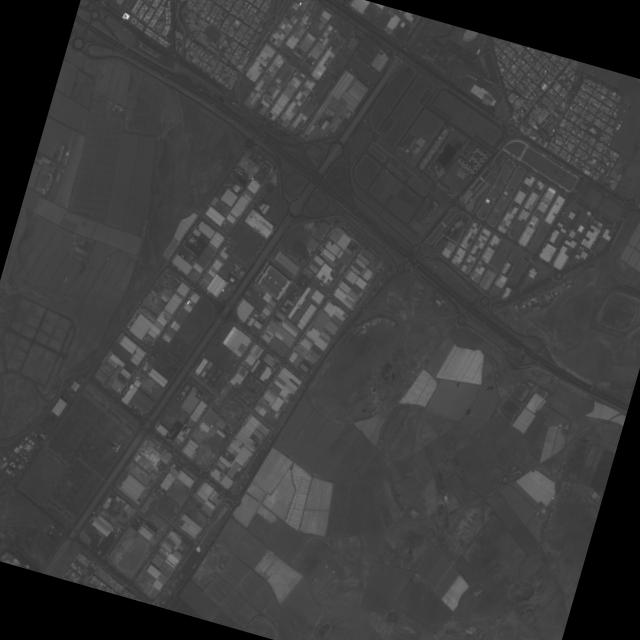plane: (60, 276, 67, 282)
storage-tank: (16, 443, 22, 449), (0, 455, 6, 461), (10, 463, 15, 469), (26, 438, 31, 443), (29, 441, 34, 446), (23, 436, 27, 441), (7, 462, 10, 465), (10, 461, 12, 464)
